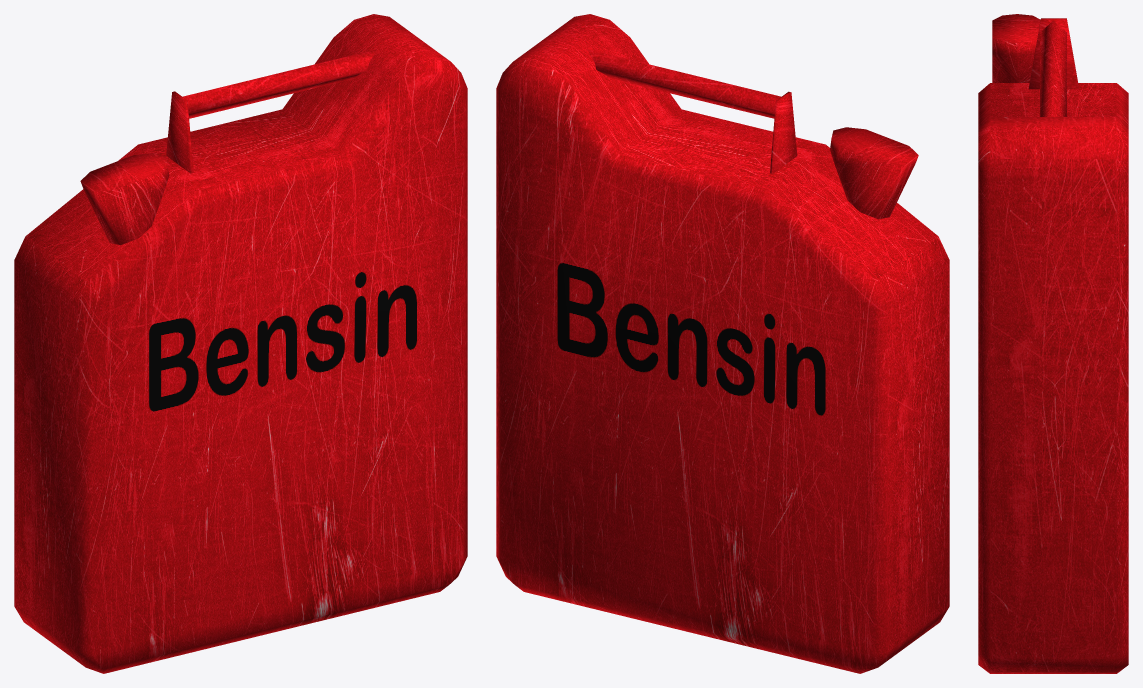
Rendered from BensinKanneRed1.FBX.
The picture shows the model from 3 angles, left to right: view 1: azimuth 30°, elevation 25°; view 2: azimuth 150°, elevation 25°; view 3: azimuth 270°, elevation 25°; orthographic projection. The views are drawn at different scales.
Visible parts, largest first — view 1: default; view 2: default; view 3: default.
Boxes of the visible parts, x1,y1,x2,y2 form: default: (14,14,467,673); default: (496,14,949,673); default: (978,14,1128,673).
Size of the model in its own units: 0.7554 by 0.9844 by 0.2457.
1 material, 1 textured.
